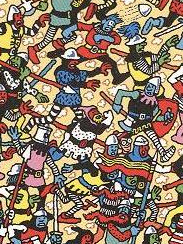waldo: (114, 130, 132, 152)
